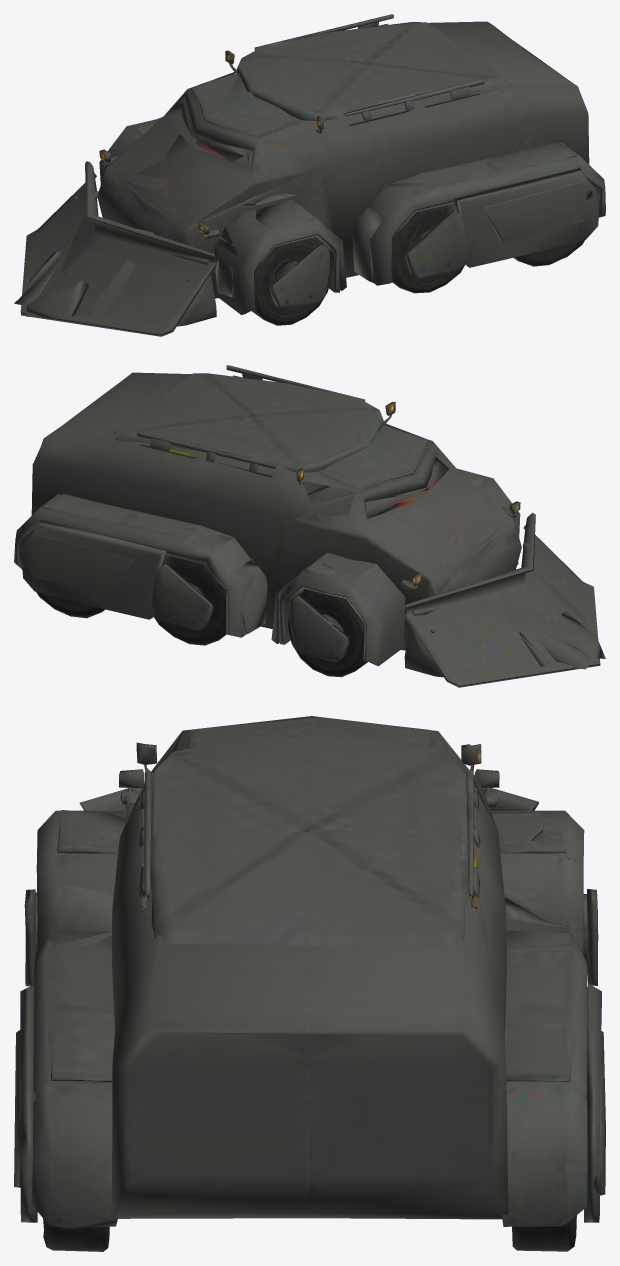
Rendered from bulwark.glb.
The picture shows the model from 3 angles, top to bottom: view 1: azimuth 30°, elevation 25°; view 2: azimuth 150°, elevation 25°; view 3: azimuth 270°, elevation 25°; orthographic projection. The views are drawn at different scales.
Size of the model in its own units: 1 by 0.3317 by 0.553.
Materials: 1 (1 with a texture image).
